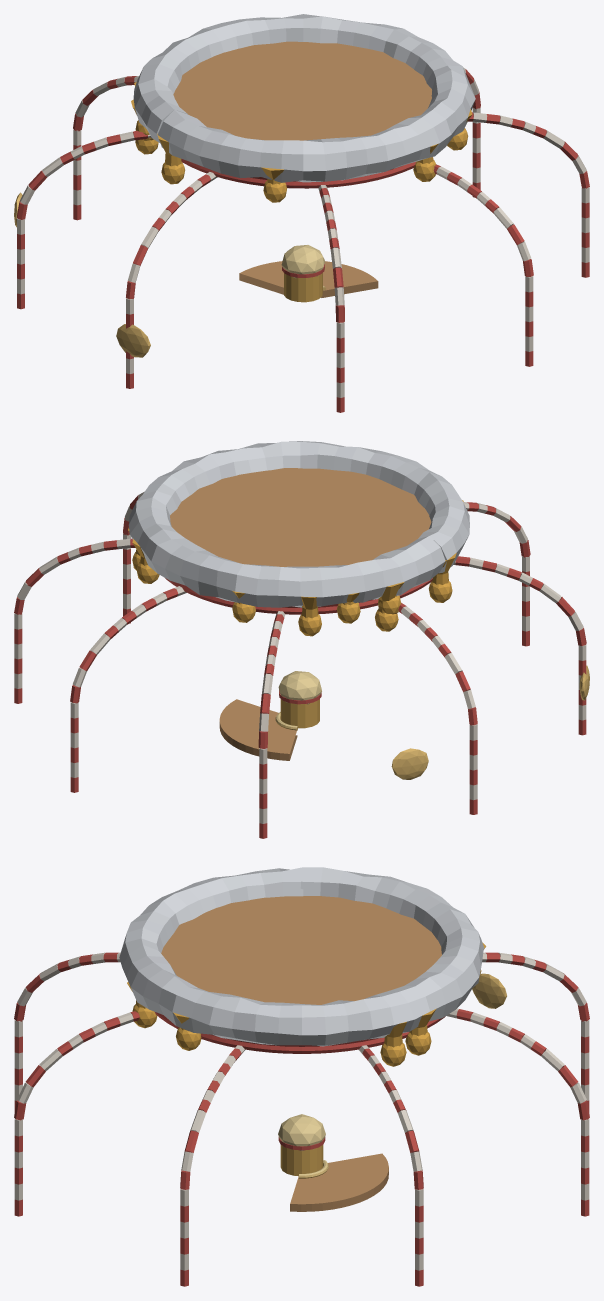
File: goo_jar_trim_4_top@winter.fbx
3 views of the same model, one above another, from view 1: azimuth 30°, elevation 25°; view 2: azimuth 150°, elevation 25°; view 3: azimuth 270°, elevation 25° (orthographic). The views are drawn at different scales.
Visible parts, largest first — view 1: goo_jar_trim_4_top; view 2: goo_jar_trim_4_top; view 3: goo_jar_trim_4_top.
Boxes of the visible parts, box(x1,y1,x2,y2) form: goo_jar_trim_4_top: box(14, 14, 589, 412); goo_jar_trim_4_top: box(14, 441, 589, 838); goo_jar_trim_4_top: box(14, 867, 589, 1286).
Bounding box in the file's own units: 41.08 × 18.79 × 40.75.
